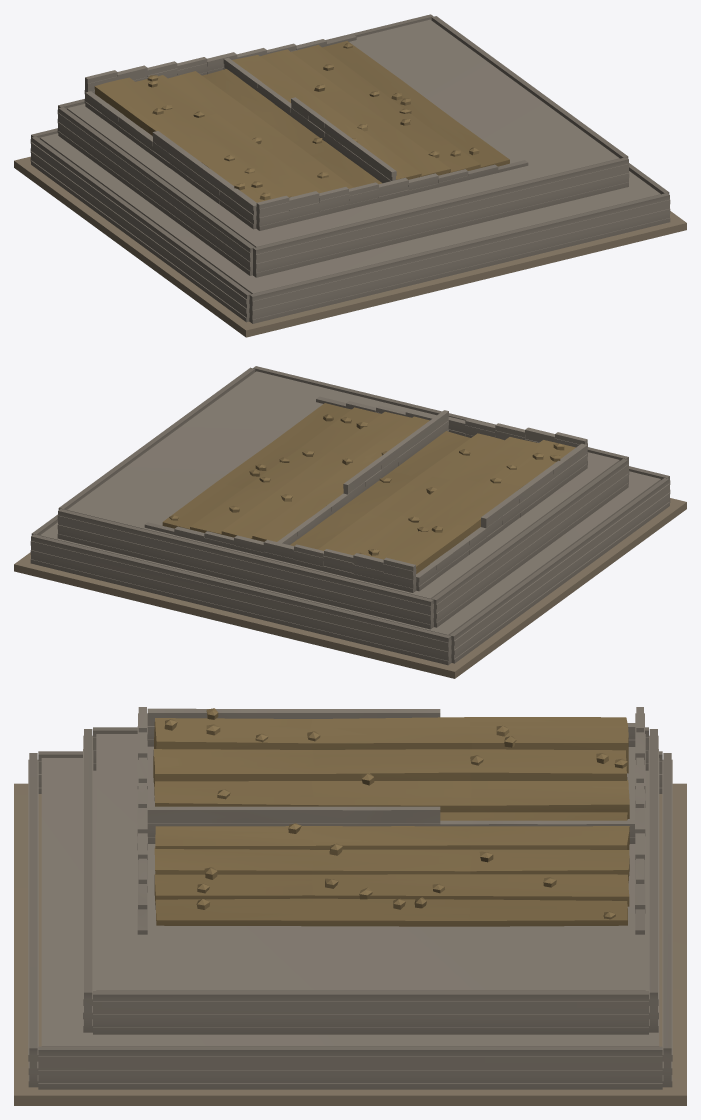
Rendered from caral_pyramid_mayor_phase2_lod0.glb.
The picture shows the model from 3 angles, top to bottom: view 1: azimuth 30°, elevation 25°; view 2: azimuth 150°, elevation 25°; view 3: azimuth 270°, elevation 25°; orthographic projection. The views are drawn at different scales.
Visible parts, largest first — view 1: GEO-Arch_pyramid_mayor_phase2_LOD0; view 2: GEO-Arch_pyramid_mayor_phase2_LOD0; view 3: GEO-Arch_pyramid_mayor_phase2_LOD0.
Boxes of the visible parts, <box> form: GEO-Arch_pyramid_mayor_phase2_LOD0: <box>14,14,686,337</box>; GEO-Arch_pyramid_mayor_phase2_LOD0: <box>14,366,686,678</box>; GEO-Arch_pyramid_mayor_phase2_LOD0: <box>14,707,686,1105</box>.
Bounding box in the file's own units: 45.4 × 8.68 × 41.4.
